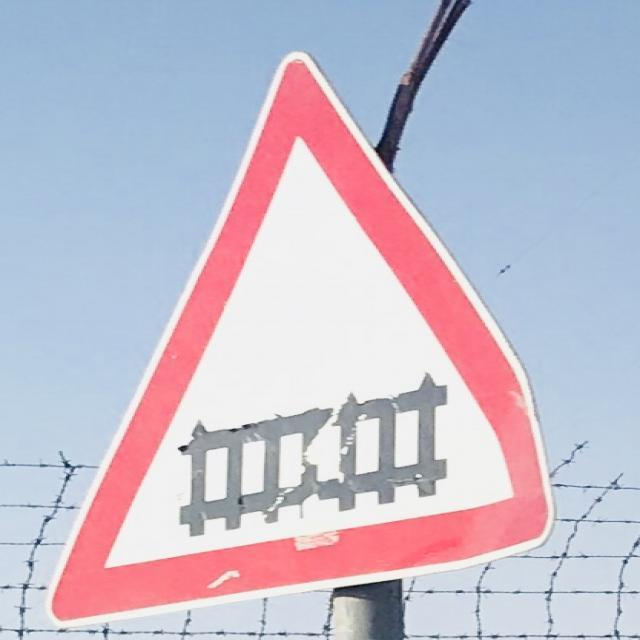guarded level crossing: (45, 41, 555, 621)
